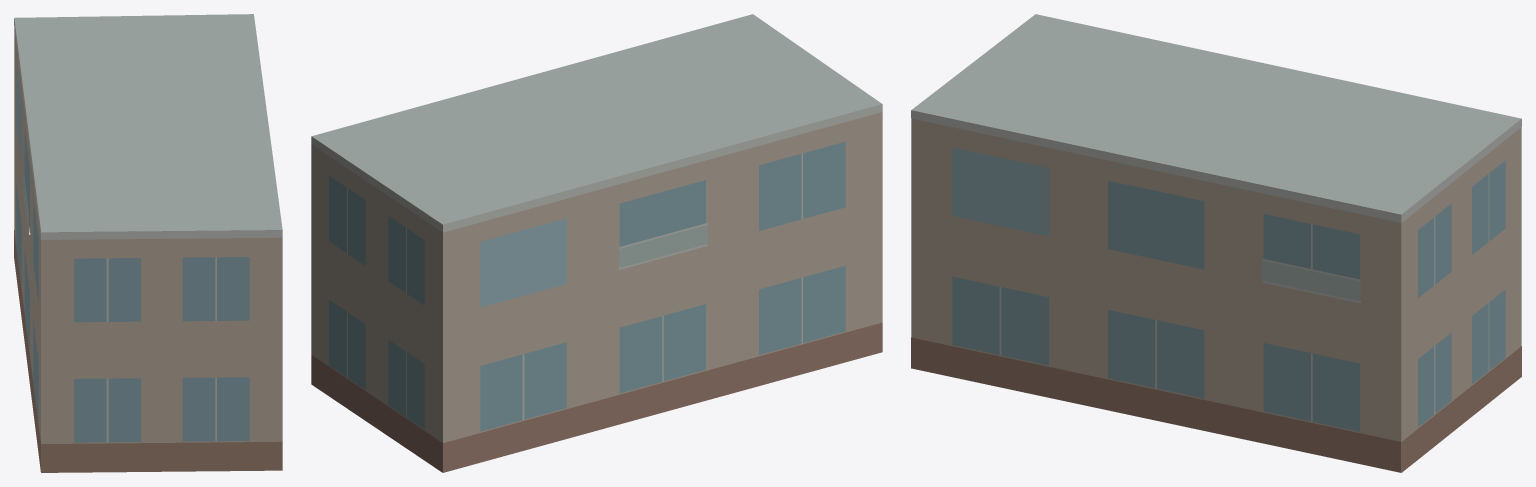
Rendered from survey-upis-32729294.glb.
The picture shows the model from 3 angles, left to right: view 1: azimuth 30°, elevation 25°; view 2: azimuth 150°, elevation 25°; view 3: azimuth 270°, elevation 25°; orthographic projection. The views are drawn at different scales.
Visible parts, largest first — view 1: survey-upis-32729294.tmp; view 2: survey-upis-32729294.tmp; view 3: survey-upis-32729294.tmp.
Boxes of the visible parts, x1,y1,x2,y2 form: survey-upis-32729294.tmp: (14,14,282,472); survey-upis-32729294.tmp: (311,14,882,472); survey-upis-32729294.tmp: (911,14,1521,472).
Size of the model in its own units: 12.68 by 7.6 by 16.3.
